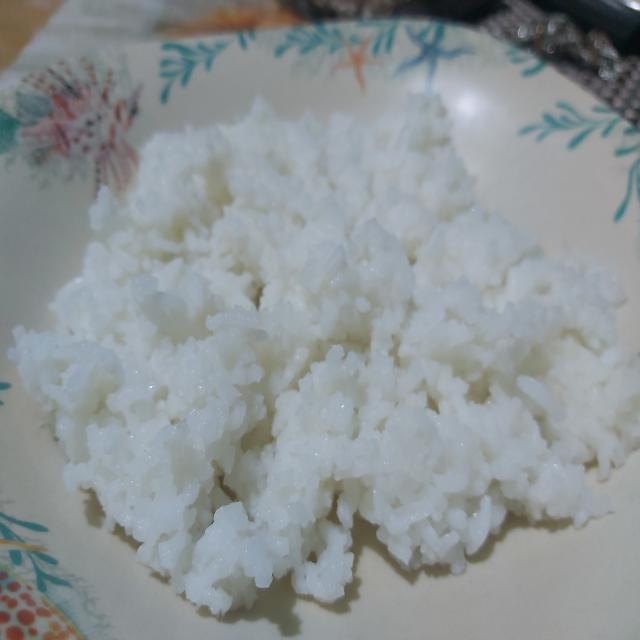Chicken -Chicken Inasal-: (73, 99, 597, 588)
